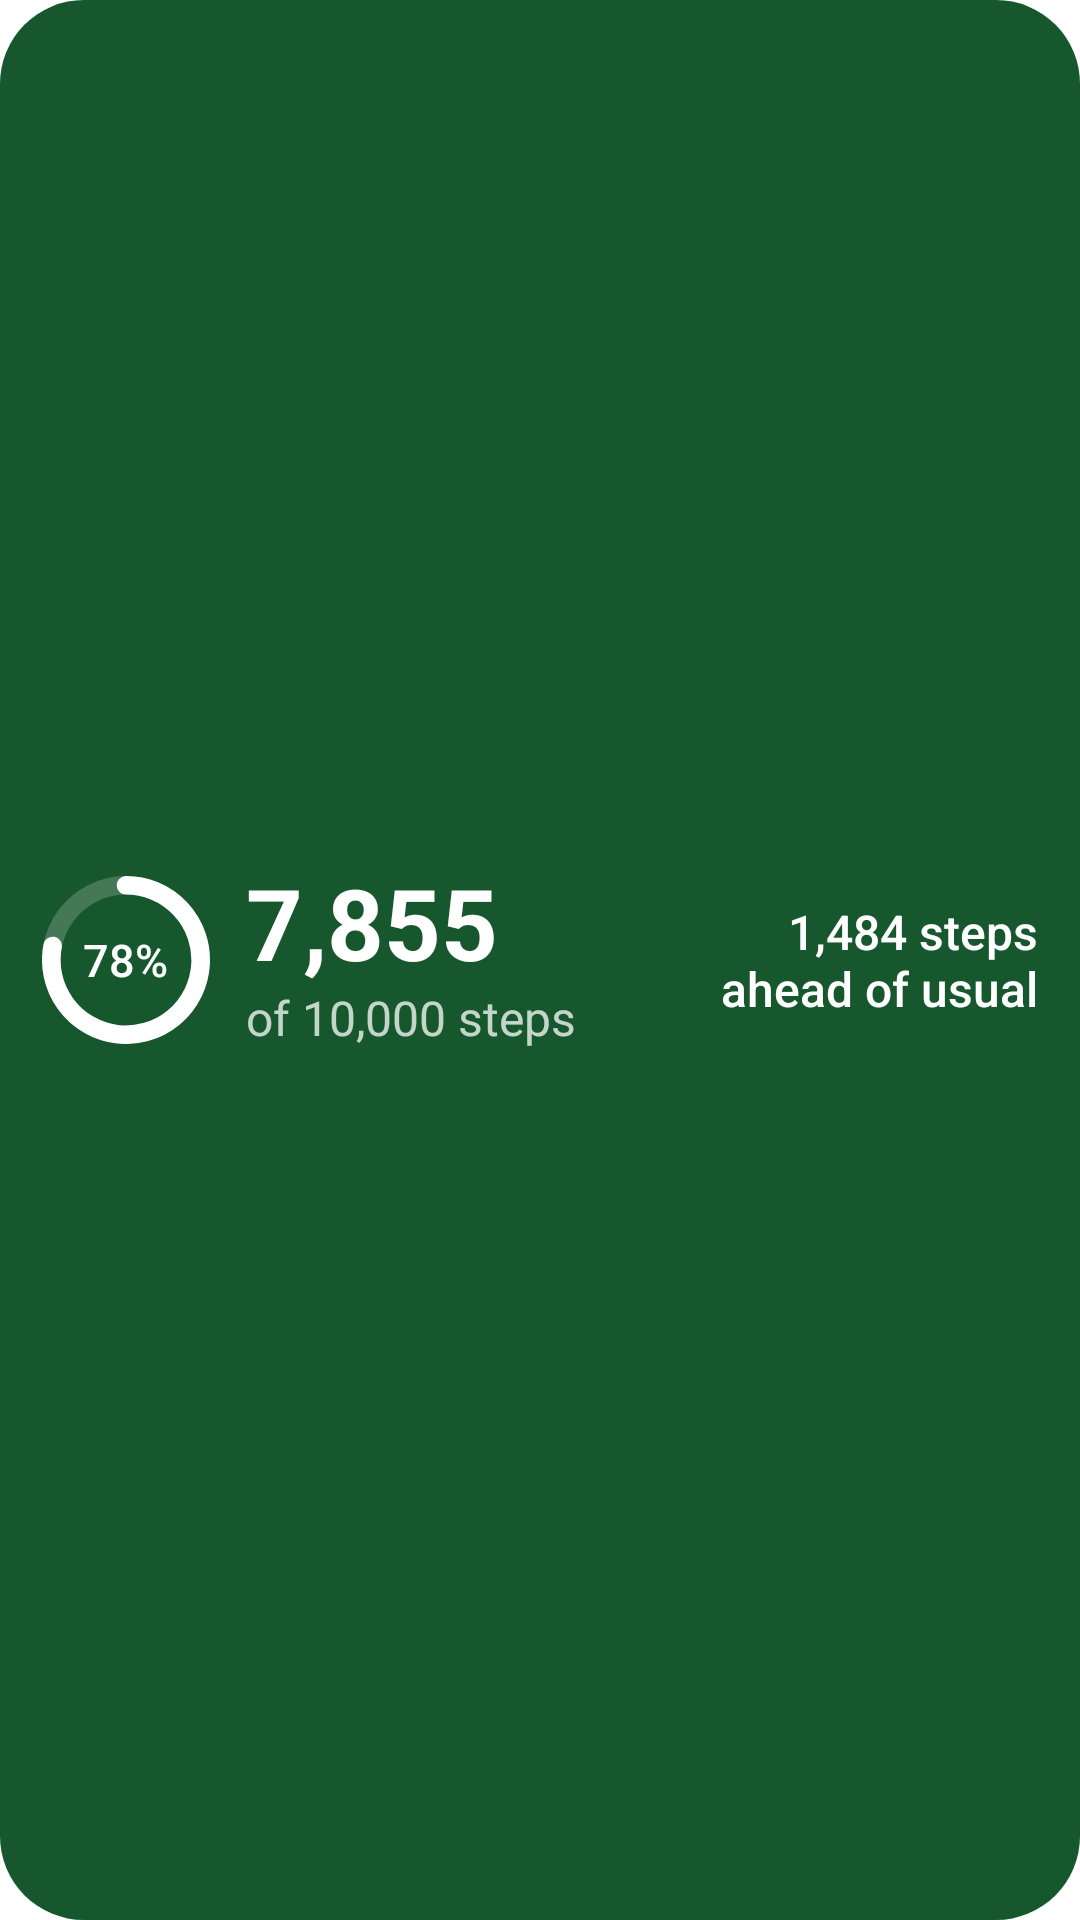

Named icons in this screenshot (1080x1920) and their bounding boxes, (x1,y1,x2,y2):
widget ring: (42,876,210,1044)
